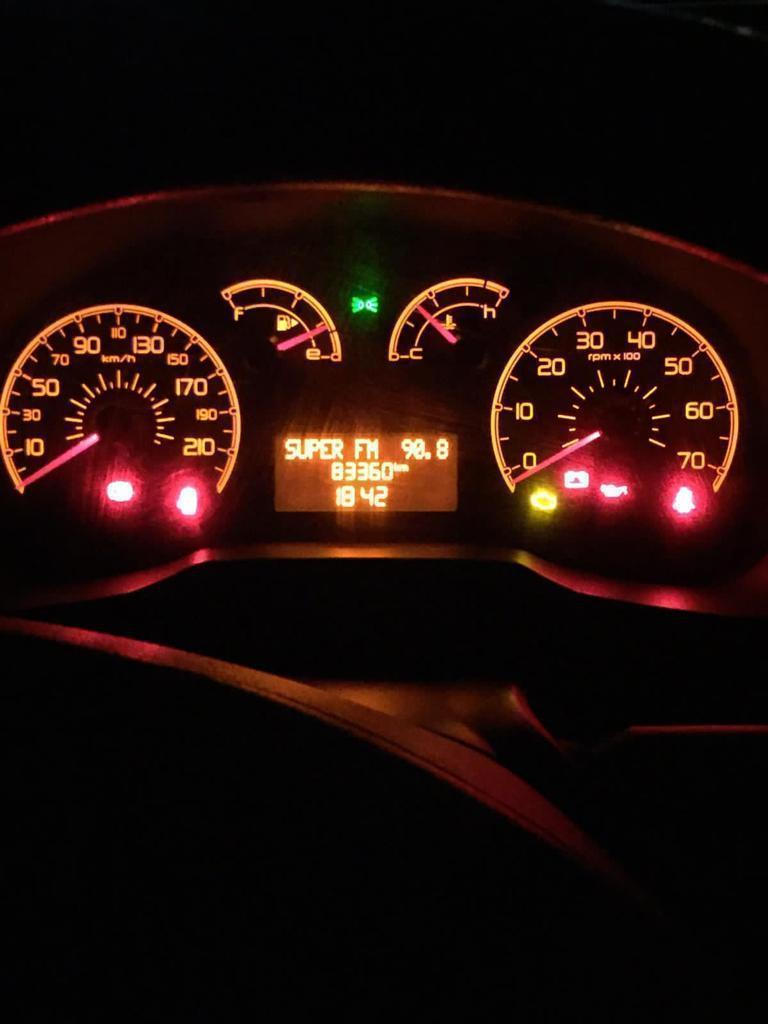,: (425, 451, 432, 460)
0: (413, 438, 425, 460), (381, 461, 393, 481)
1: (335, 485, 341, 507)
2: (374, 485, 388, 507)
3: (356, 461, 369, 481), (344, 460, 356, 481)
4: (359, 485, 374, 507)
6: (369, 460, 381, 481)
8: (342, 484, 355, 507), (436, 437, 449, 458), (330, 461, 343, 480)
9: (400, 437, 413, 460)
X: (331, 437, 343, 459), (366, 438, 379, 458), (297, 438, 309, 459), (320, 438, 331, 459), (285, 438, 296, 459), (355, 438, 366, 458), (309, 438, 319, 459), (399, 463, 409, 472), (393, 461, 399, 472)
odometer: (266, 428, 463, 516)
